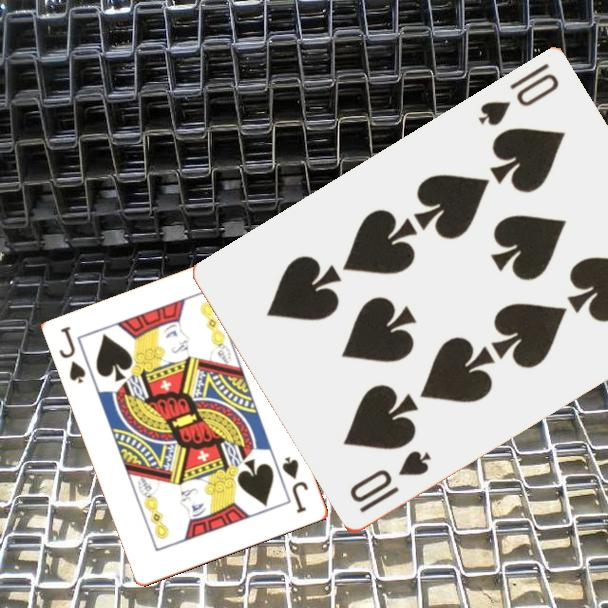s10: (345, 447, 434, 517), (474, 60, 562, 130)
s11: (56, 323, 89, 387), (279, 453, 312, 516)
